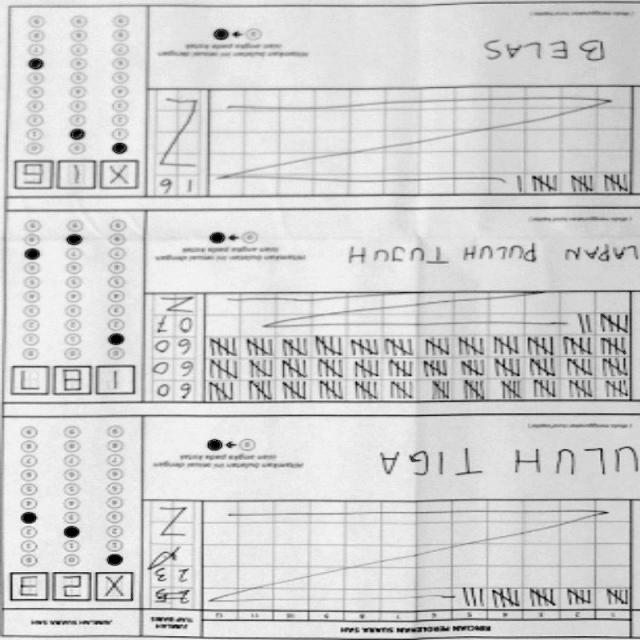Suara: (4, 364, 138, 400), (13, 573, 137, 605), (15, 161, 146, 191)
